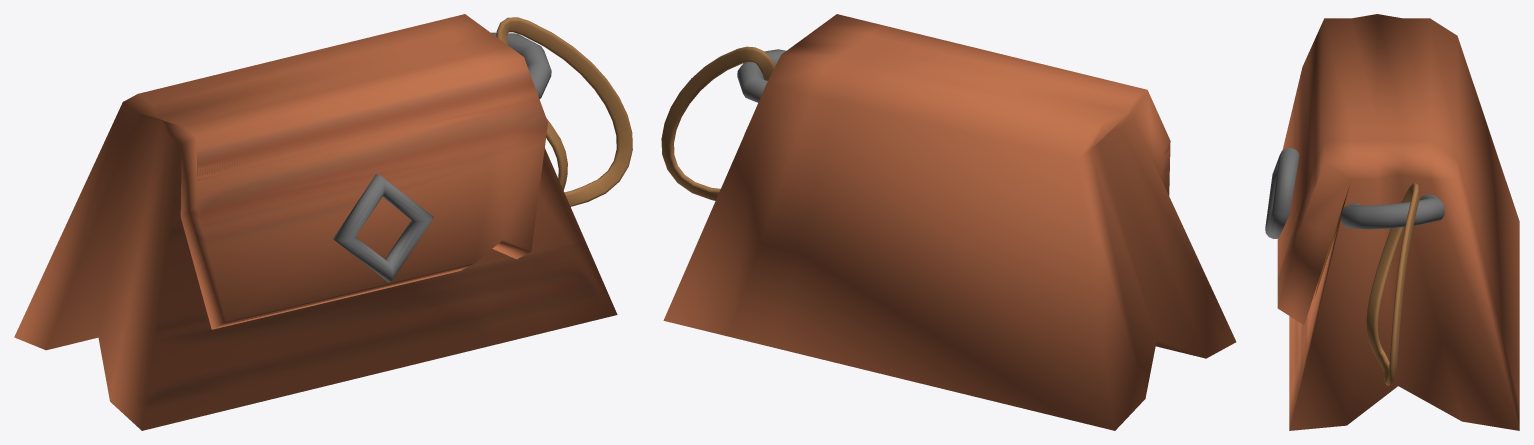
Rendered from Item 6.fbx.
The picture shows the model from 3 angles, left to right: view 1: azimuth 30°, elevation 25°; view 2: azimuth 150°, elevation 25°; view 3: azimuth 270°, elevation 25°; orthographic projection. The views are drawn at different scales.
Visible parts, largest first — view 1: Rosca.001; view 2: Rosca.001; view 3: Rosca.001.
Boxes of the visible parts, x1,y1,x2,y2 form: Rosca.001: (14,14,632,430); Rosca.001: (661,14,1236,430); Rosca.001: (1265,14,1519,430).
Bounding box in the file's own units: 202 × 92.14 × 90.08.
